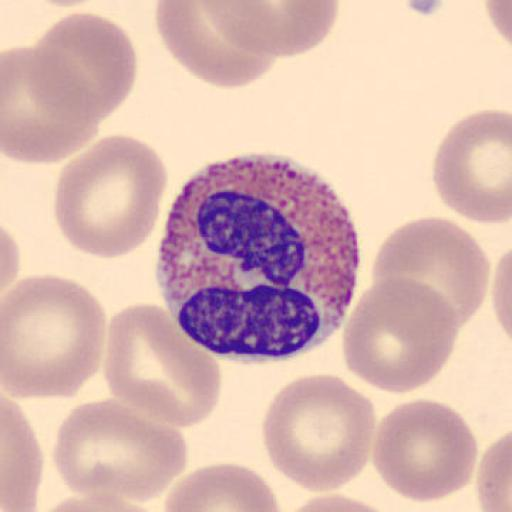RBC: (101, 300, 223, 432), (50, 396, 190, 506), (53, 133, 169, 261), (342, 275, 460, 396), (260, 372, 377, 494), (2, 272, 108, 402), (369, 214, 491, 326), (2, 44, 100, 165), (31, 10, 138, 120), (370, 397, 478, 504), (154, 0, 278, 89), (432, 107, 512, 226), (200, 0, 340, 59), (160, 462, 283, 512), (1, 396, 43, 512), (39, 489, 169, 512), (476, 429, 512, 512), (281, 492, 397, 512), (32, 493, 152, 512), (492, 245, 512, 346), (482, 0, 512, 52), (2, 222, 22, 294)
WBC: (155, 155, 363, 364)
